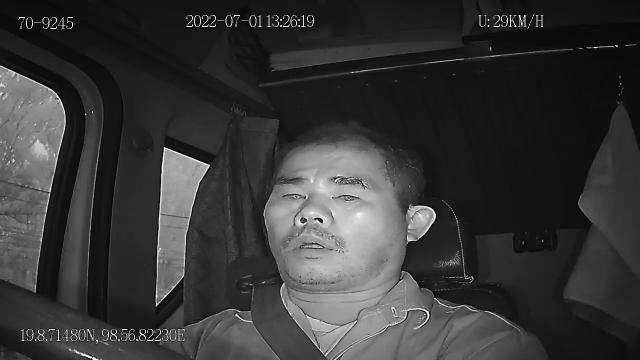SafeDriving: (325, 181, 368, 209), (274, 180, 312, 207)
Seatbelt: (245, 278, 335, 360)
